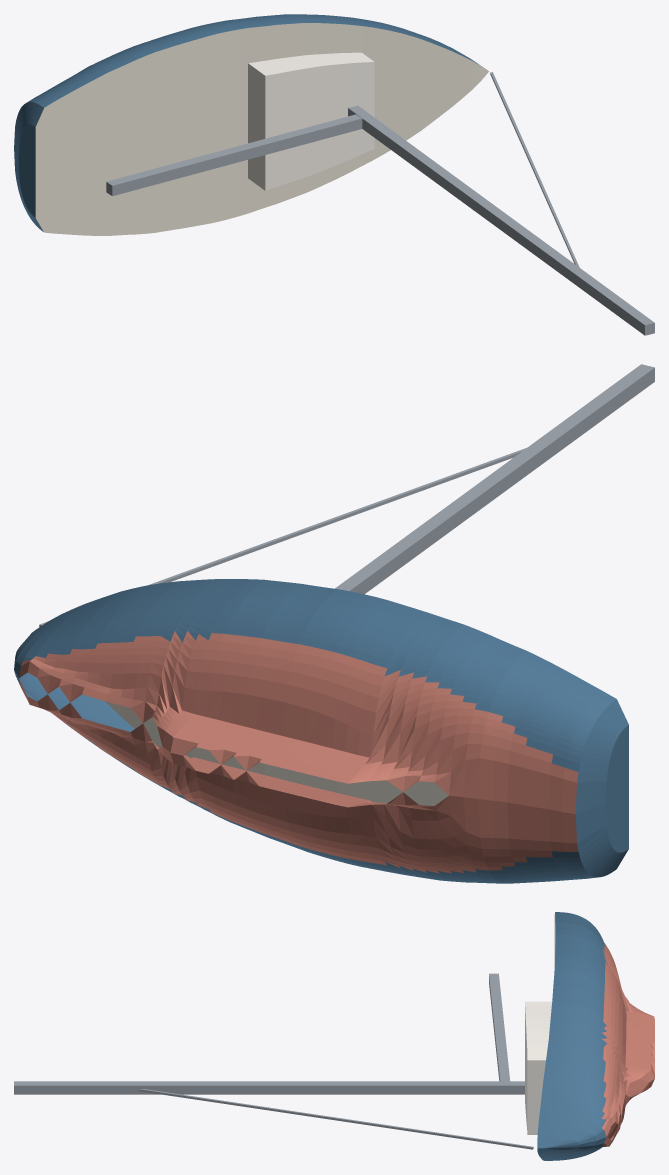
File: com-pac-16-lines.glb
3 views of the same model, one above another, from view 1: azimuth 30°, elevation 25°; view 2: azimuth 150°, elevation 25°; view 3: azimuth 270°, elevation 25° (orthographic). The views are drawn at different scales.
Parts seen in each view (by area): view 1: Com-Pac 16; view 2: Com-Pac 16; view 3: Com-Pac 16.
Boxes of the visible parts, <box> form: Com-Pac 16: <box>14,14,654,335</box>; Com-Pac 16: <box>14,364,654,883</box>; Com-Pac 16: <box>14,912,654,1160</box>.
Bounding box in the file's own units: 2 × 0.8086 × 2.9.
